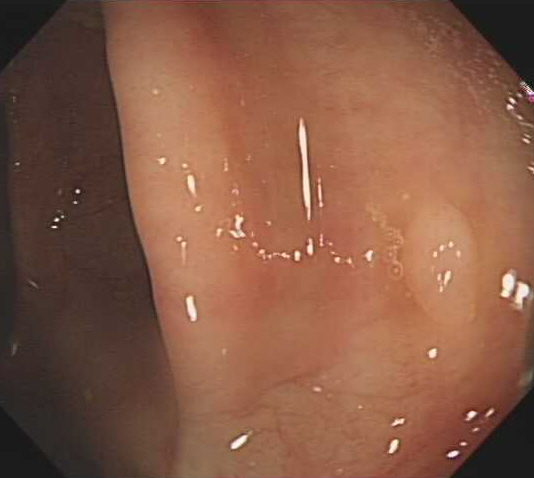adenoma: (395, 197, 480, 330)
